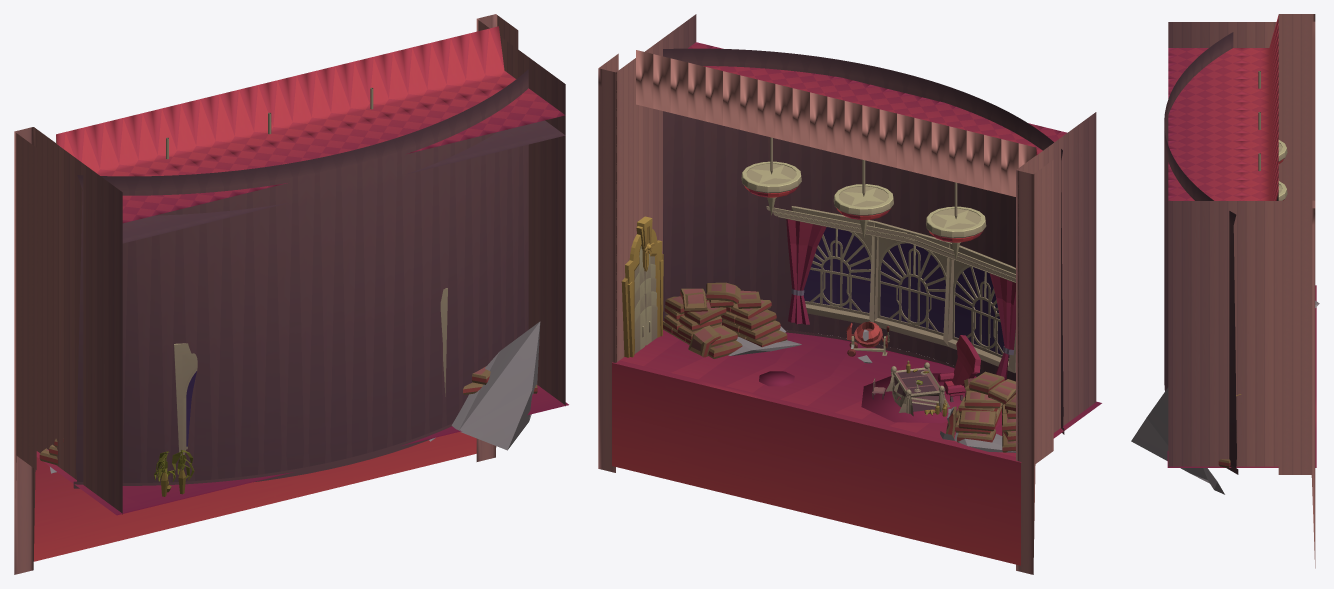
File: SM_BossRoom.fbx
The picture shows the model from 3 angles, left to right: view 1: azimuth 30°, elevation 25°; view 2: azimuth 150°, elevation 25°; view 3: azimuth 270°, elevation 25°; orthographic projection. The views are drawn at different scales.
Visible parts, largest first — view 1: SM_Bossroom; view 2: SM_Bossroom; view 3: SM_Bossroom.
Part boxes in pixels (x1,y1,x2,y2): SM_Bossroom: [14, 14, 568, 574]; SM_Bossroom: [598, 14, 1101, 574]; SM_Bossroom: [1131, 14, 1319, 568].
Size of the model in its own units: 1027 by 2500 by 2243.
